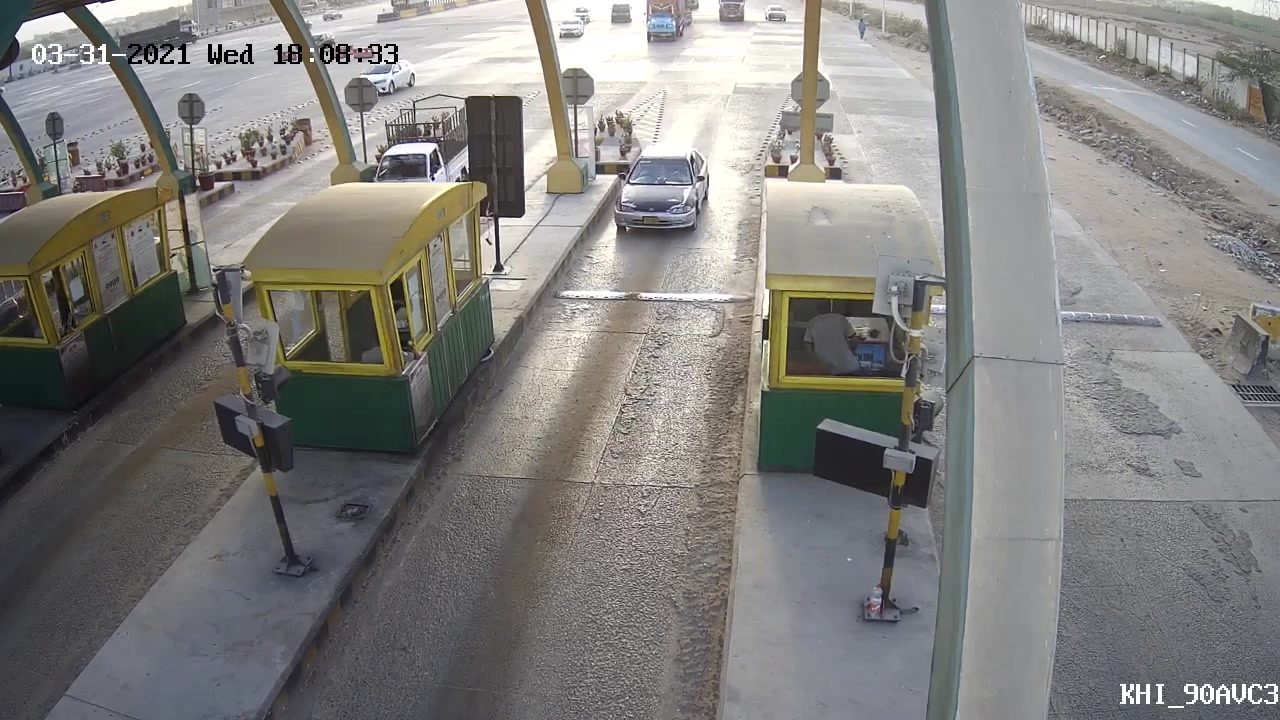F1: (602, 143, 714, 243)
